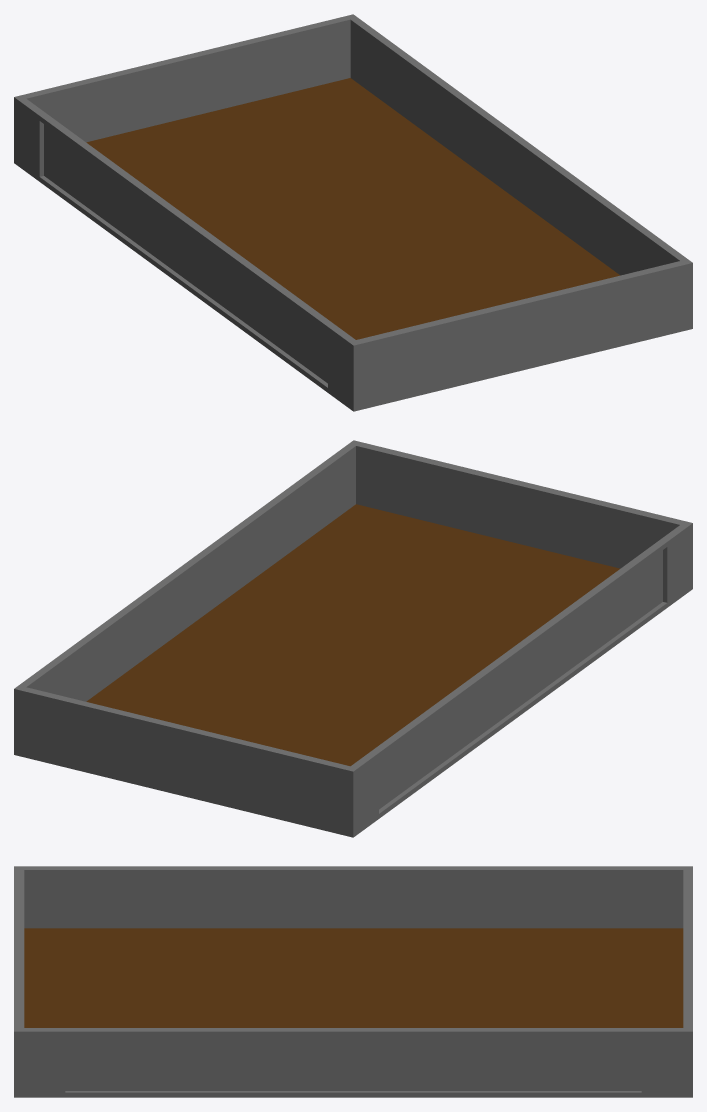
The model's file is Tray.fbx.
3 views of the same model, one above another, from view 1: azimuth 30°, elevation 25°; view 2: azimuth 150°, elevation 25°; view 3: azimuth 270°, elevation 25° (orthographic).
Visible parts, largest first — view 1: Tray; view 2: Tray; view 3: Tray.
Part boxes in pixels (x1,y1,x2,y2): Tray: [14, 14, 692, 411]; Tray: [14, 440, 692, 837]; Tray: [14, 866, 692, 1097].
Size of the model in its own units: 54.49 by 10.14 by 94.45.
